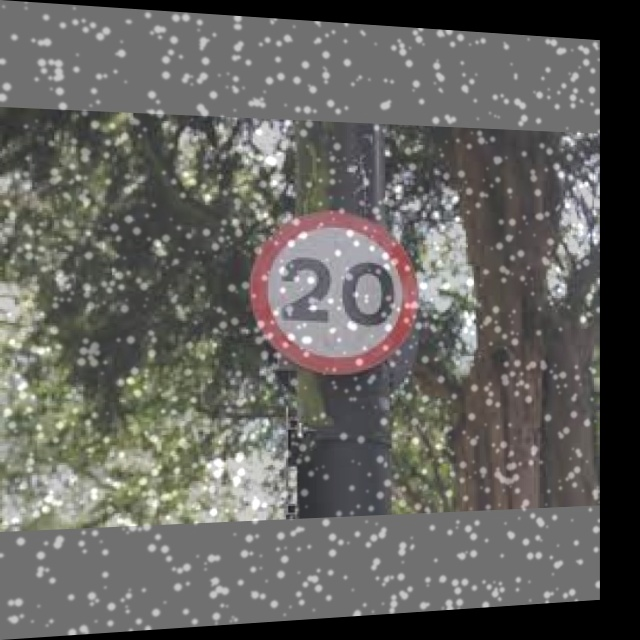Speed_Limit_20: (246, 210, 422, 374)
